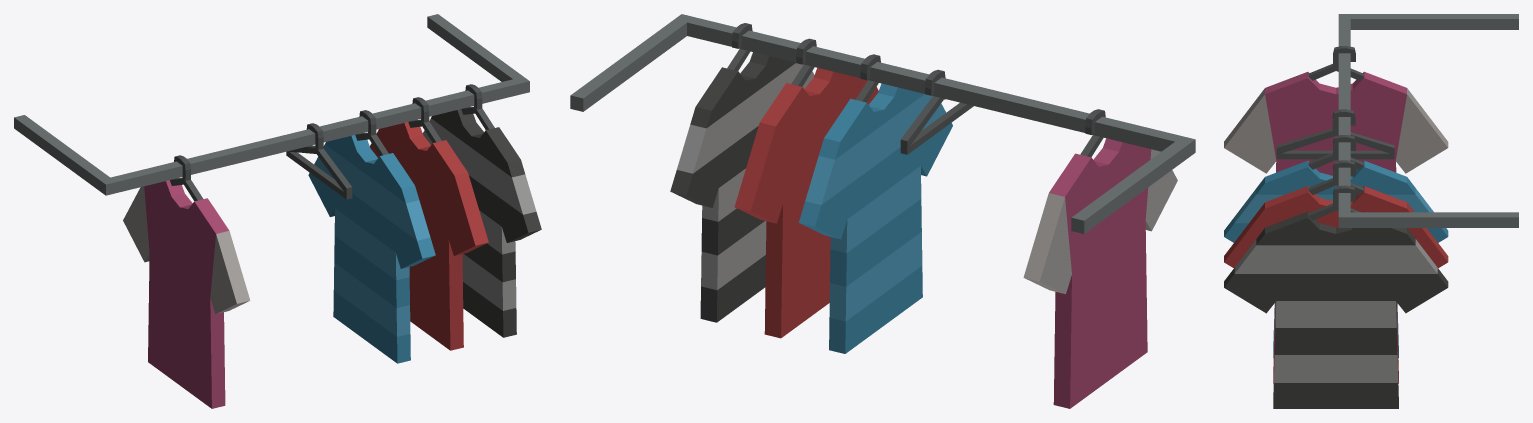
File: SM_Props_Interior_Shop_Clothes_Hanger_Shirt_02.fbx
3 views of the same model, side by side, from view 1: azimuth 30°, elevation 25°; view 2: azimuth 150°, elevation 25°; view 3: azimuth 270°, elevation 25° (orthographic). The views are drawn at different scales.
Visible parts, largest first — view 1: SM_Props_Interior_Shop_Clothes_Hanger_Shirt_02; view 2: SM_Props_Interior_Shop_Clothes_Hanger_Shirt_02; view 3: SM_Props_Interior_Shop_Clothes_Hanger_Shirt_02.
Boxes of the visible parts, box(x1,y1,x2,y2) form: SM_Props_Interior_Shop_Clothes_Hanger_Shirt_02: box(14, 14, 541, 408); SM_Props_Interior_Shop_Clothes_Hanger_Shirt_02: box(570, 14, 1195, 408); SM_Props_Interior_Shop_Clothes_Hanger_Shirt_02: box(1224, 14, 1518, 408).
Size of the model in its own units: 160 by 80.34 by 98.12.
